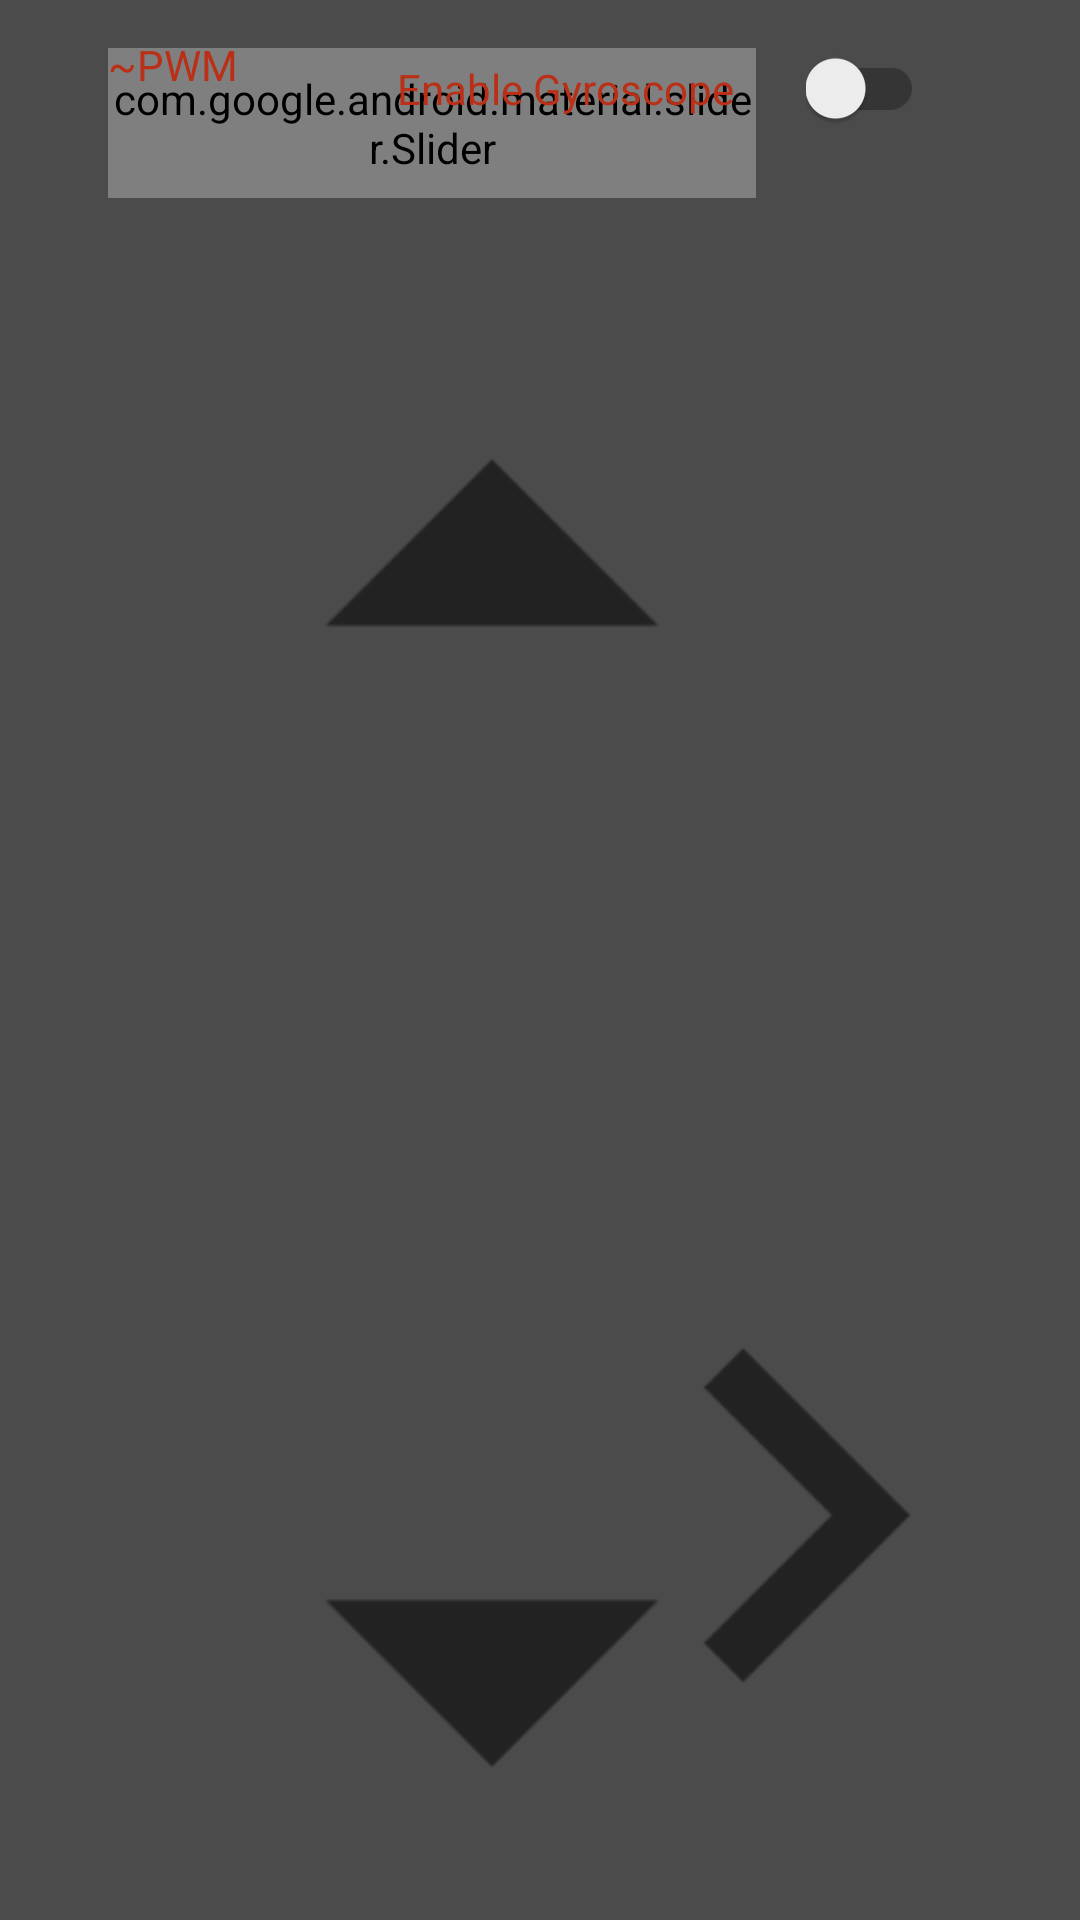

Icons on this 1080x1920 Android screen, each with its box as {"left": x1, "top": y1, "right": x2, "bottom": y2}:
arrow drop down: {"left": 329, "top": 1601, "right": 655, "bottom": 1765}
arrow drop up: {"left": 329, "top": 461, "right": 655, "bottom": 625}
chevron right: {"left": 705, "top": 1350, "right": 909, "bottom": 1681}
